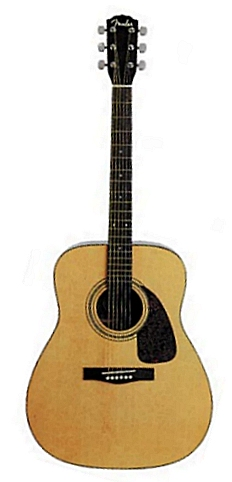guitar: (25, 12, 213, 470)
